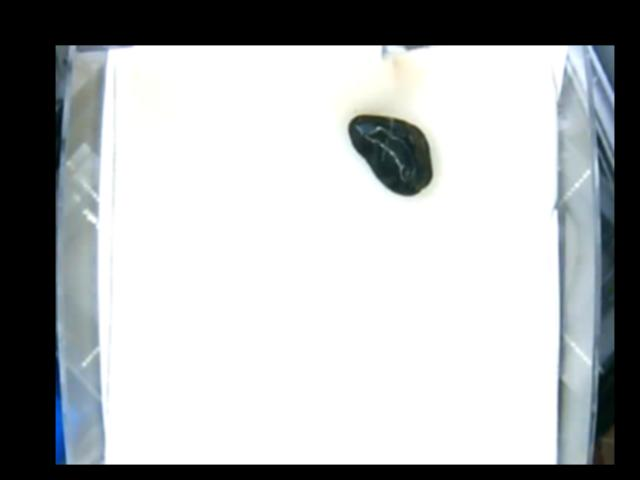Pebble: (348, 112, 435, 199)
